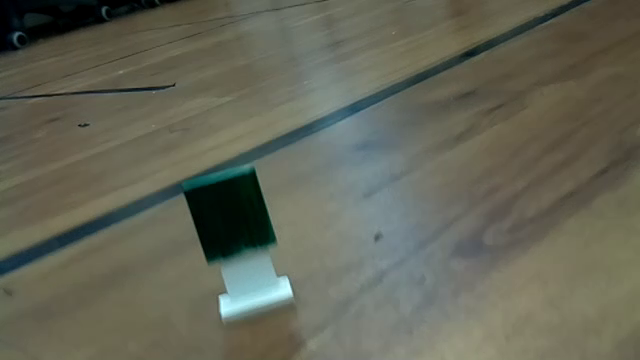rect: (170, 172, 309, 319)
